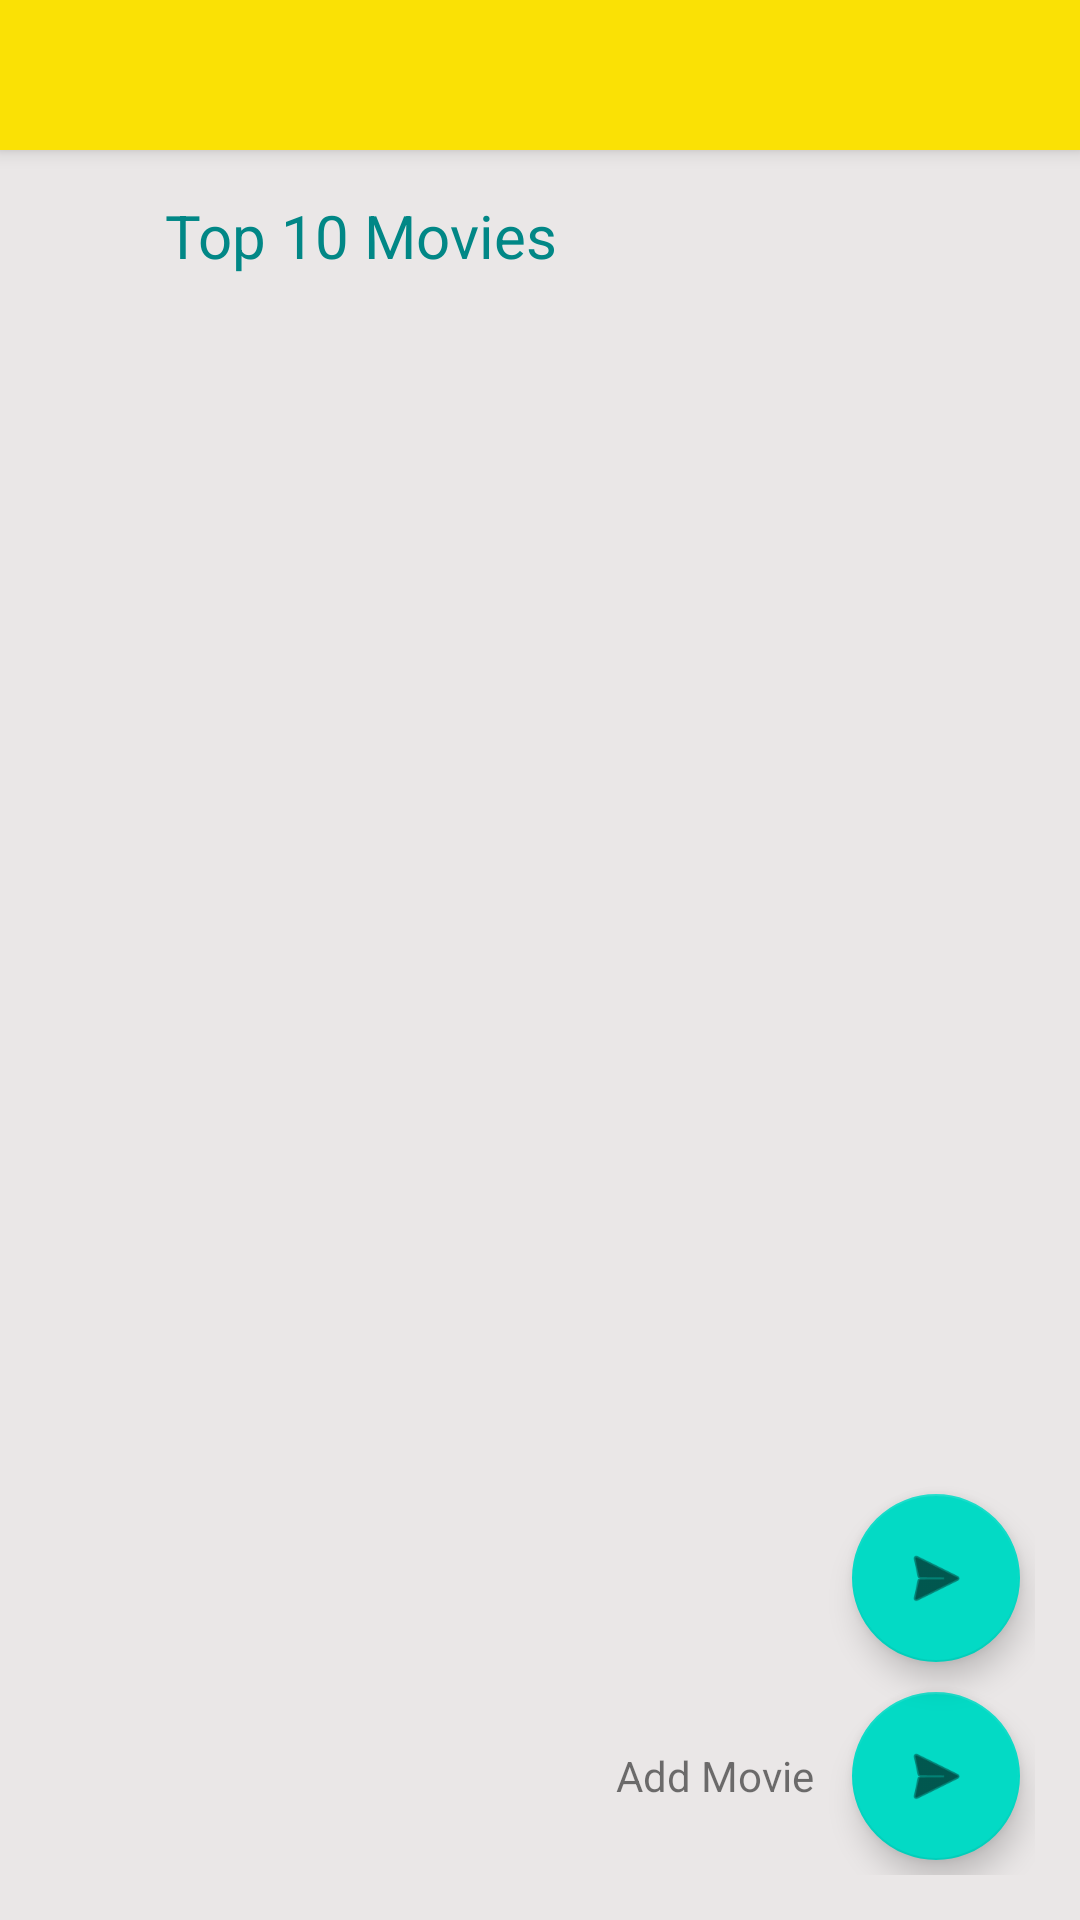

Locate icon controls on the screen. Image size 1080x1920, boxes as (x1, y1, x2, y2).
send: (852, 1494, 1020, 1662), (852, 1692, 1020, 1860)
